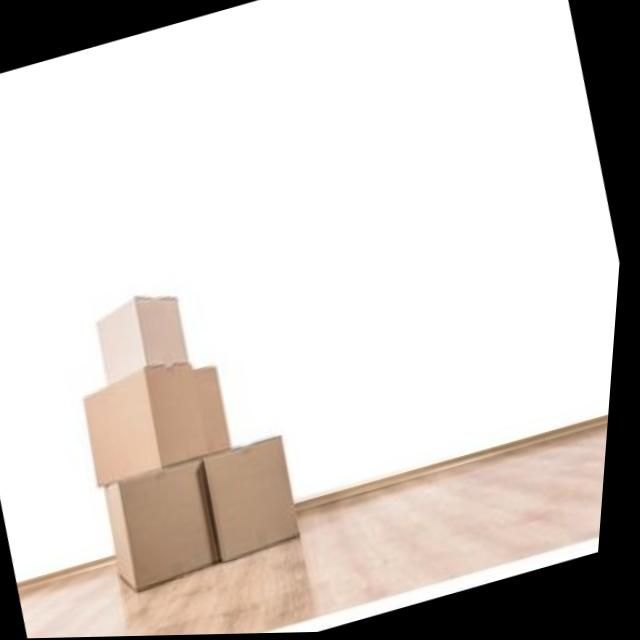box: (87, 442, 243, 628), (63, 352, 247, 498), (194, 423, 336, 581), (69, 282, 206, 404)
